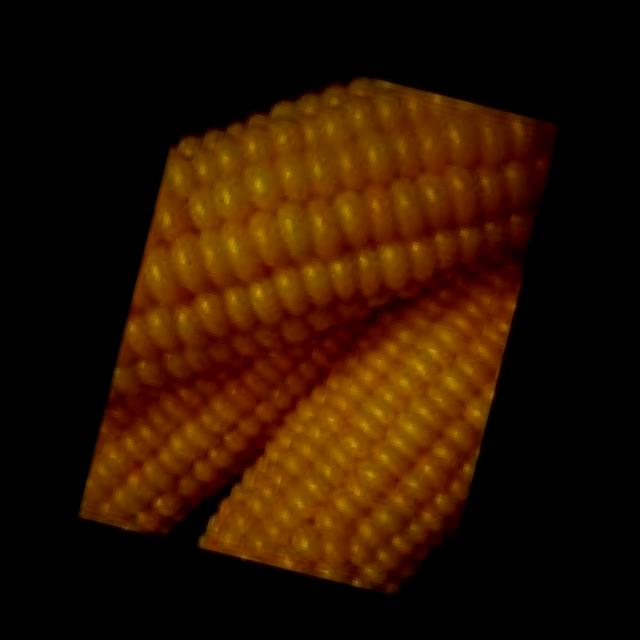corn: (77, 75, 558, 588)
